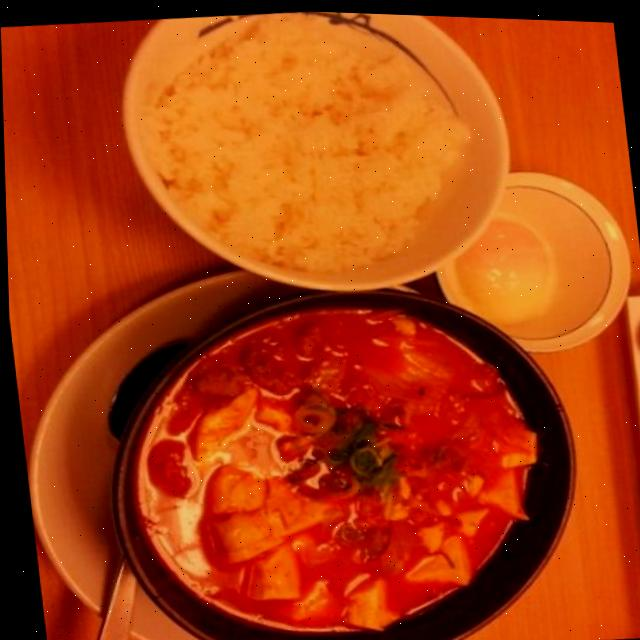米饭主食: (104, 3, 532, 320)
